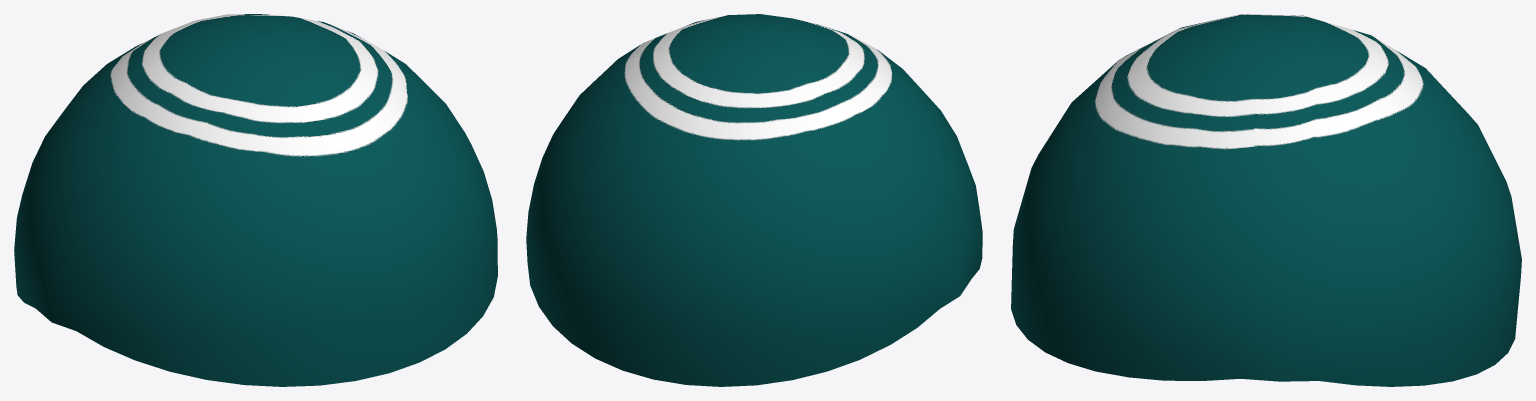
Rendered from Rings_Button_Add.fbx.
3 views of the same model, side by side, from view 1: azimuth 30°, elevation 25°; view 2: azimuth 150°, elevation 25°; view 3: azimuth 270°, elevation 25° (orthographic). The views are drawn at different scales.
Visible parts, largest first — view 1: pSphere48; view 2: pSphere48; view 3: pSphere48.
Boxes of the visible parts, bbox=[...] form: pSphere48: bbox=[14, 14, 497, 386]; pSphere48: bbox=[526, 14, 982, 386]; pSphere48: bbox=[1011, 14, 1521, 386].
Bounding box in the file's own units: 4.48 × 2.81 × 4.47.
1 material, 1 textured.
